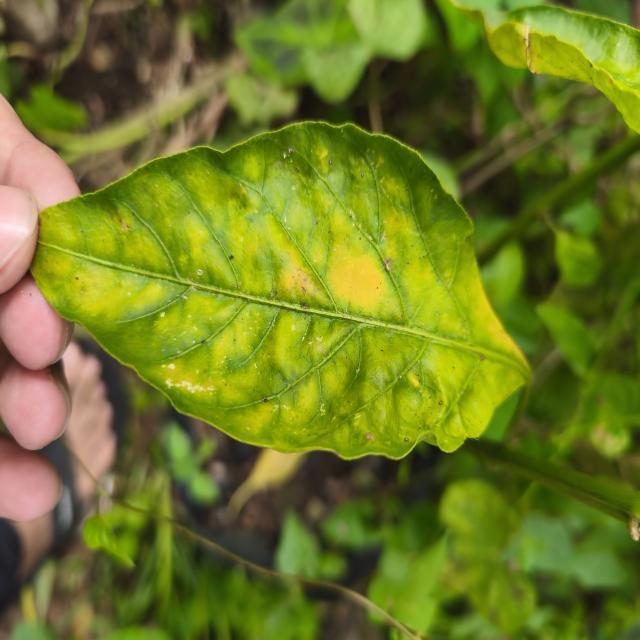Virus Kuning: (29, 118, 532, 462), (448, 0, 640, 135)
